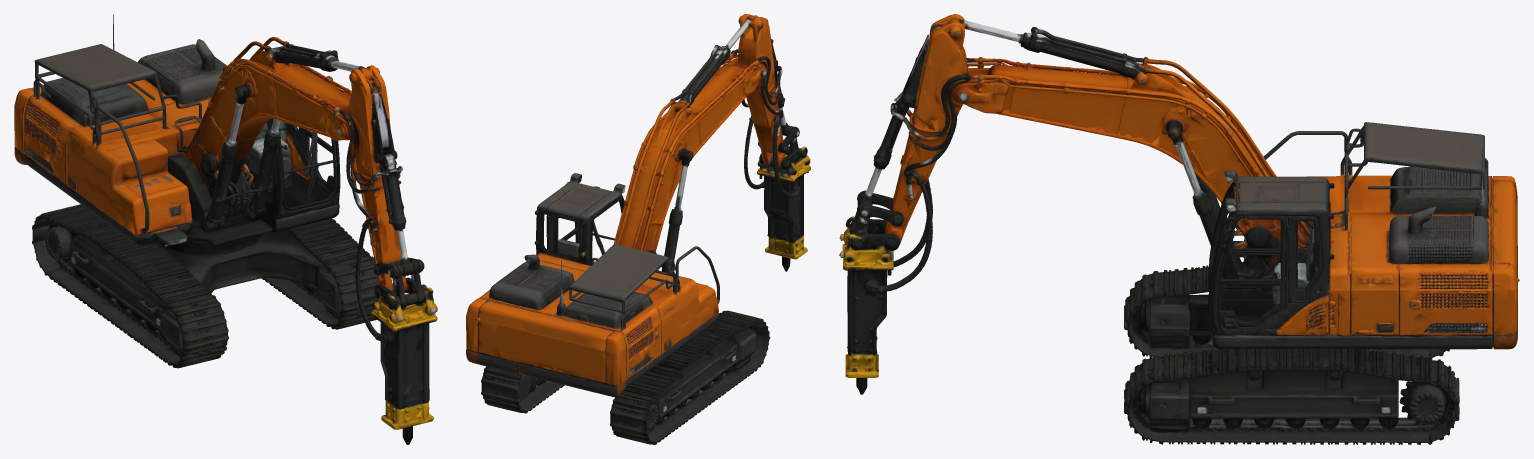
File: tripo_pbr_model_4be6fa61-73bb-4da0-b263-fd93bf51e0cc_meshopt.glb
3 views of the same model, side by side, from view 1: azimuth 30°, elevation 25°; view 2: azimuth 150°, elevation 25°; view 3: azimuth 270°, elevation 25° (orthographic). The views are drawn at different scales.
Visible parts, largest first — view 1: tripo_node_4be6fa61-73bb-4da0-b263-fd93bf51e0cc; view 2: tripo_node_4be6fa61-73bb-4da0-b263-fd93bf51e0cc; view 3: tripo_node_4be6fa61-73bb-4da0-b263-fd93bf51e0cc.
Part boxes in pixels (x1,y1,x2,y2): tripo_node_4be6fa61-73bb-4da0-b263-fd93bf51e0cc: (14, 14, 437, 444); tripo_node_4be6fa61-73bb-4da0-b263-fd93bf51e0cc: (466, 14, 810, 444); tripo_node_4be6fa61-73bb-4da0-b263-fd93bf51e0cc: (839, 14, 1519, 444).
Bounding box in the file's own units: 0.3818 × 0.5993 × 0.9849.
Materials: 1 (1 with a texture image).
